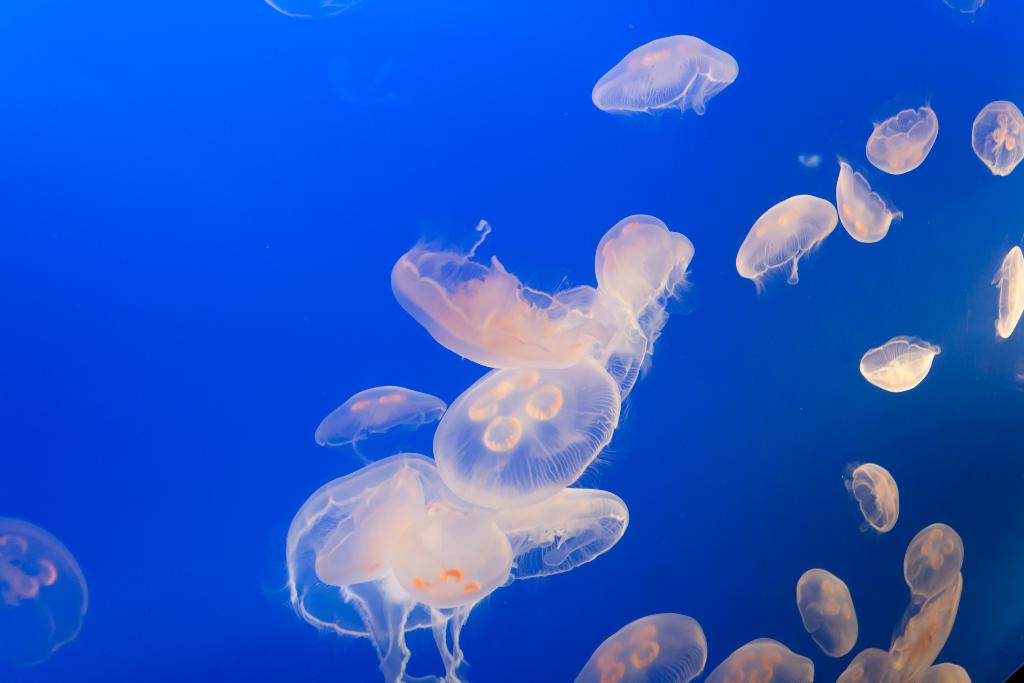Jellyfish: (259, 210, 697, 682), (591, 28, 737, 130), (0, 517, 92, 670), (733, 194, 835, 293), (571, 611, 702, 682), (890, 577, 965, 682), (828, 156, 899, 245), (792, 563, 857, 656), (863, 104, 944, 178), (902, 519, 967, 608), (857, 331, 937, 393), (839, 459, 902, 535), (708, 636, 810, 682), (970, 99, 1023, 178), (990, 245, 1023, 340), (833, 650, 902, 682), (914, 662, 970, 682)
